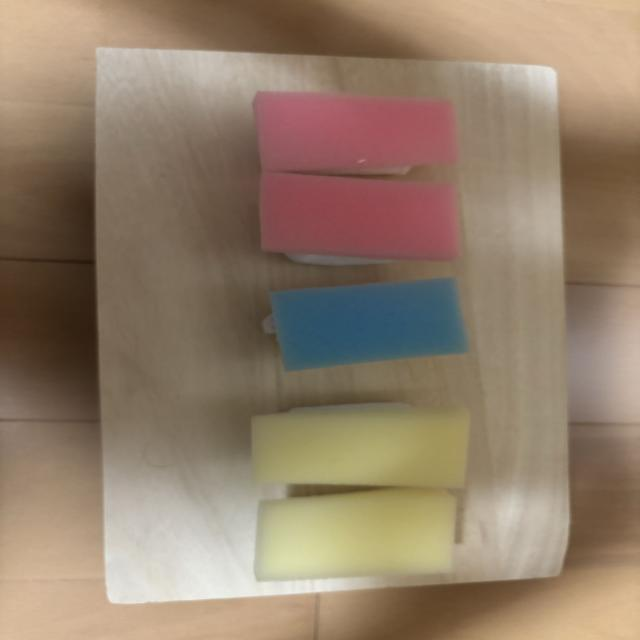ika: (270, 278, 468, 371)
tai: (260, 172, 461, 262), (253, 91, 458, 175)
tamago: (254, 488, 456, 582), (252, 407, 470, 489)
